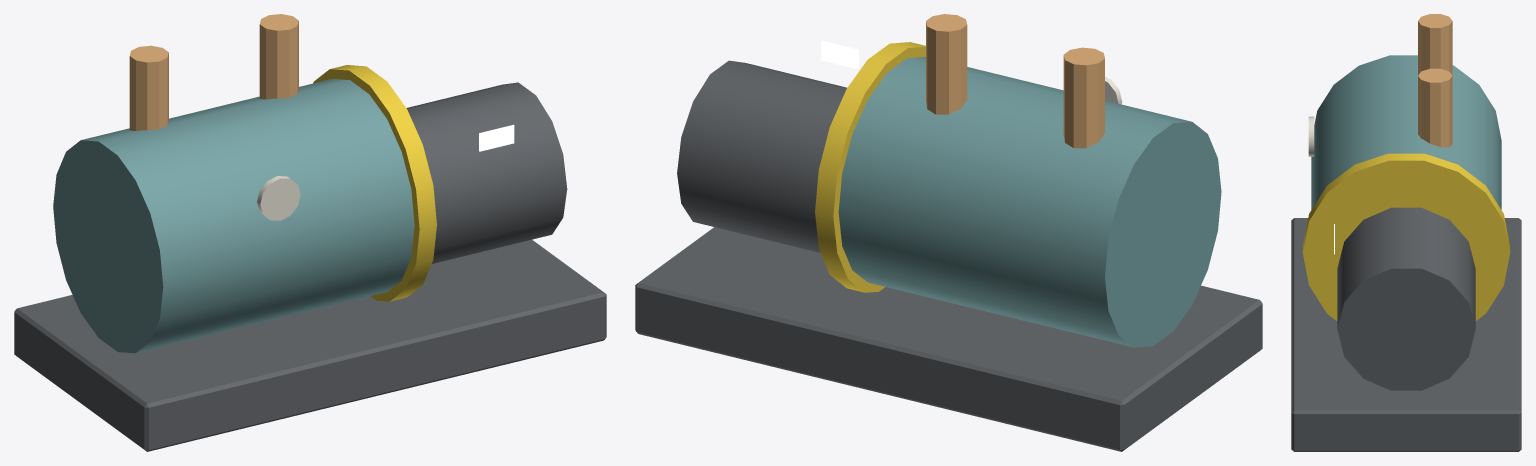
The model's file is coolant_pump.glb.
3 views of the same model, side by side, from view 1: azimuth 30°, elevation 25°; view 2: azimuth 150°, elevation 25°; view 3: azimuth 270°, elevation 25° (orthographic). The views are drawn at different scales.
Visible parts, largest first — view 1: coolant_pump; view 2: coolant_pump; view 3: coolant_pump.
Boxes of the visible parts, x1,y1,x2,y2 form: coolant_pump: (14,14,606,451); coolant_pump: (635,14,1262,451); coolant_pump: (1291,14,1521,451).
Bounding box in the file's own units: 1.6 × 1.05 × 0.8.
